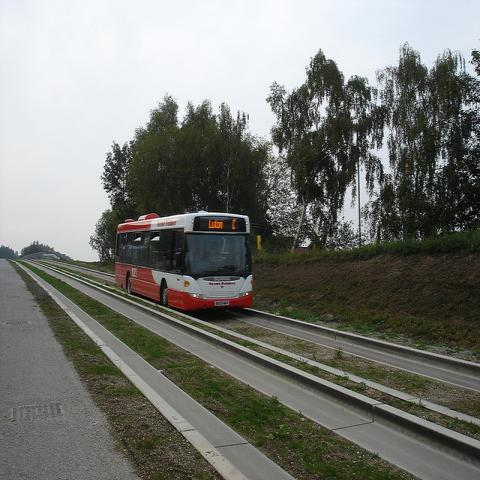bus: (112, 210, 254, 310)
